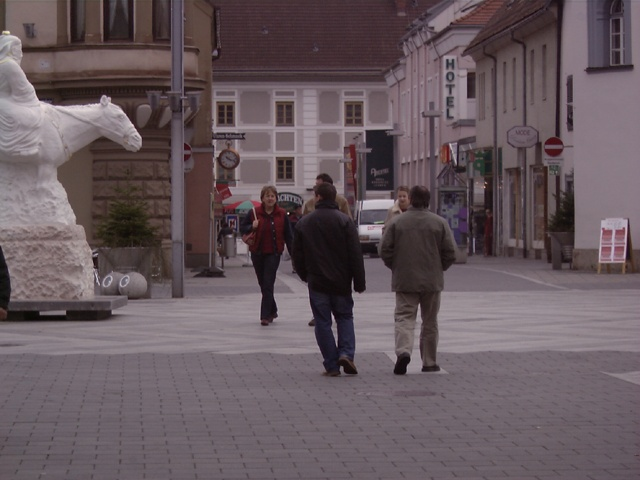person: (375, 183, 454, 374), (292, 180, 363, 376), (241, 184, 290, 325)
